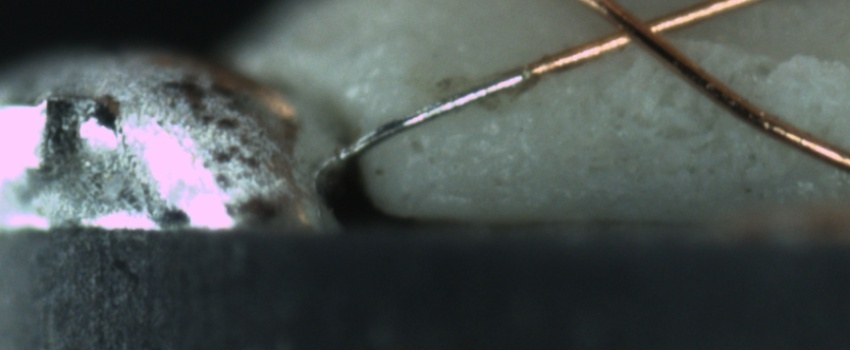CL: (598, 2, 682, 57)
TS: (336, 67, 527, 164)
